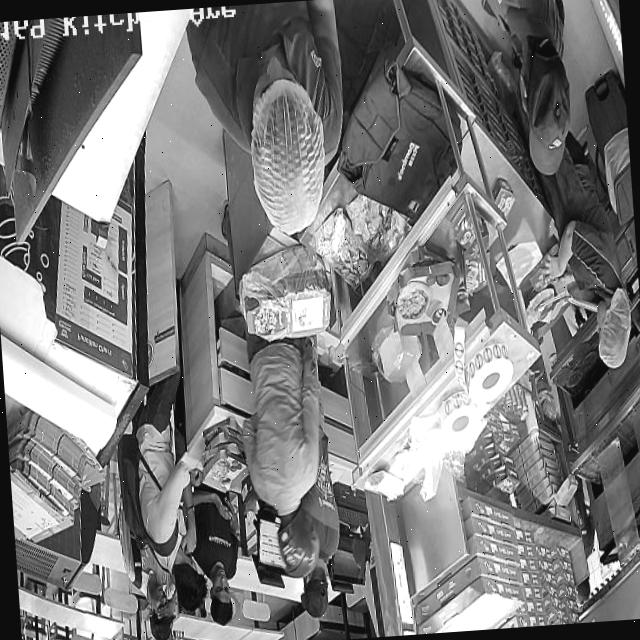helmet: (277, 506, 320, 578)
